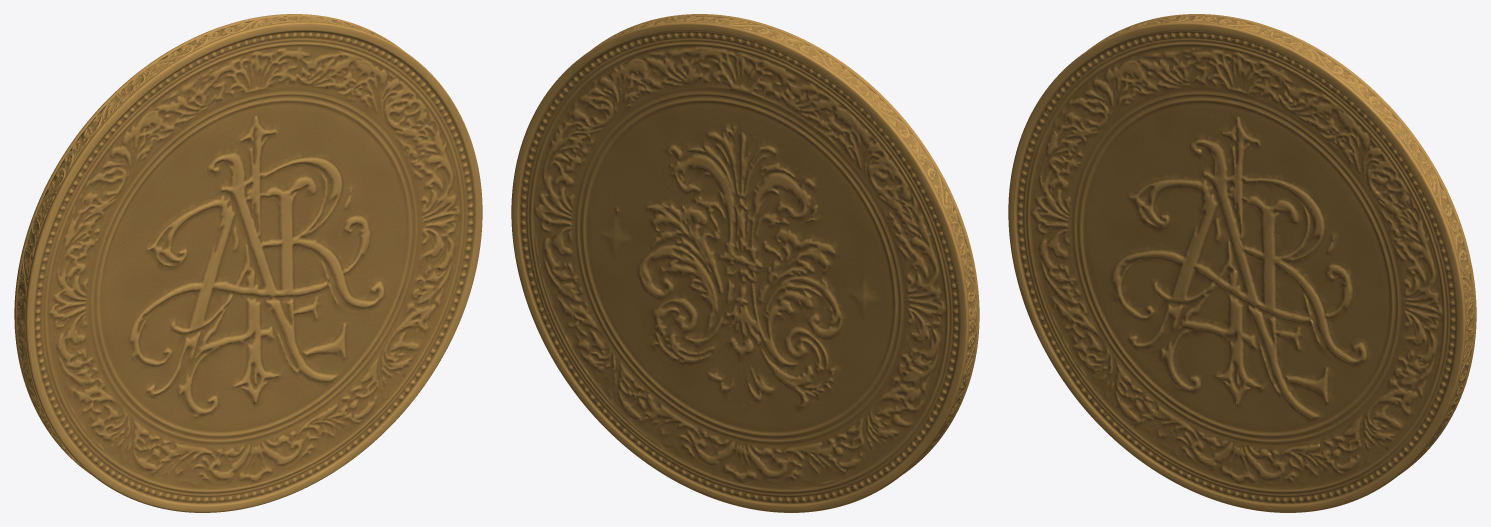
File: aurel_coin_final.glb
3 renders of one model, left to right at view 1: azimuth 30°, elevation 25°; view 2: azimuth 150°, elevation 25°; view 3: azimuth 330°, elevation 25°, orthographic.
Parts seen in each view (by area): view 1: AUREL_Coin; view 2: AUREL_Coin; view 3: AUREL_Coin.
Part boxes in pixels (x1,y1,x2,y2): AUREL_Coin: (14, 14, 482, 512); AUREL_Coin: (511, 14, 979, 512); AUREL_Coin: (1008, 14, 1476, 512).
Size of the model in its own units: 2 by 2 by 0.1.
1 material, 1 textured.
